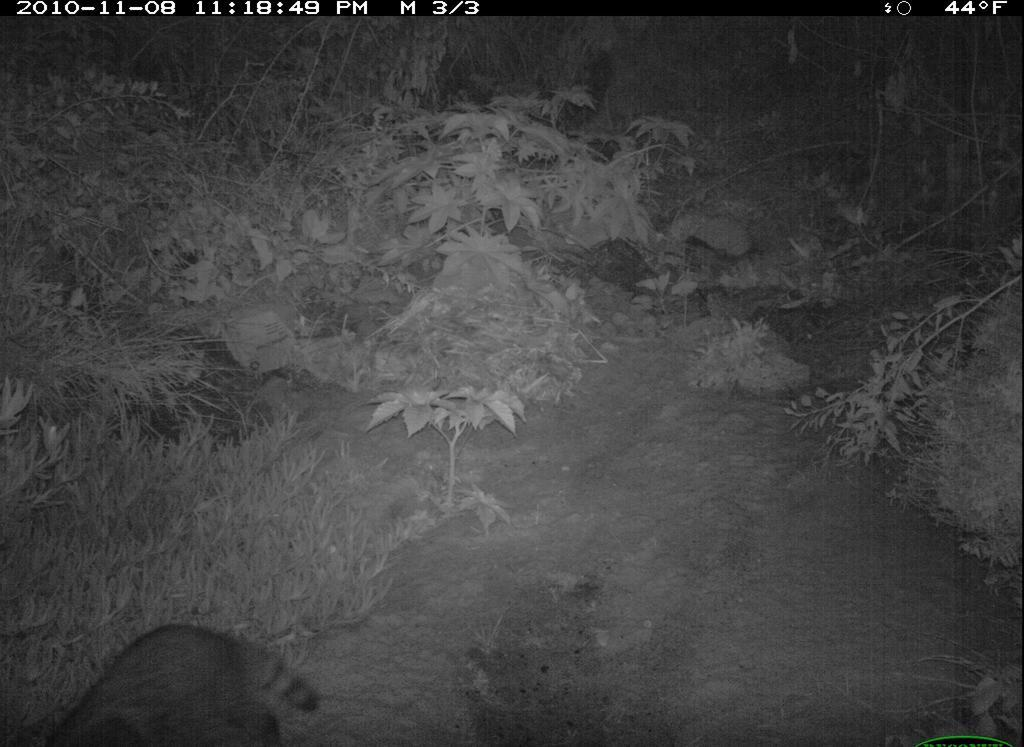raccoon: (38, 594, 373, 747)
